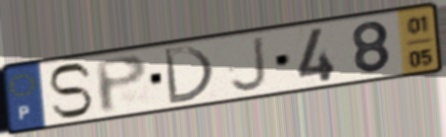4: (295, 25, 340, 85)
8: (350, 20, 394, 75)
D: (160, 44, 218, 106)
J: (228, 34, 270, 94)
P: (91, 52, 151, 116)
S: (45, 61, 95, 121)
